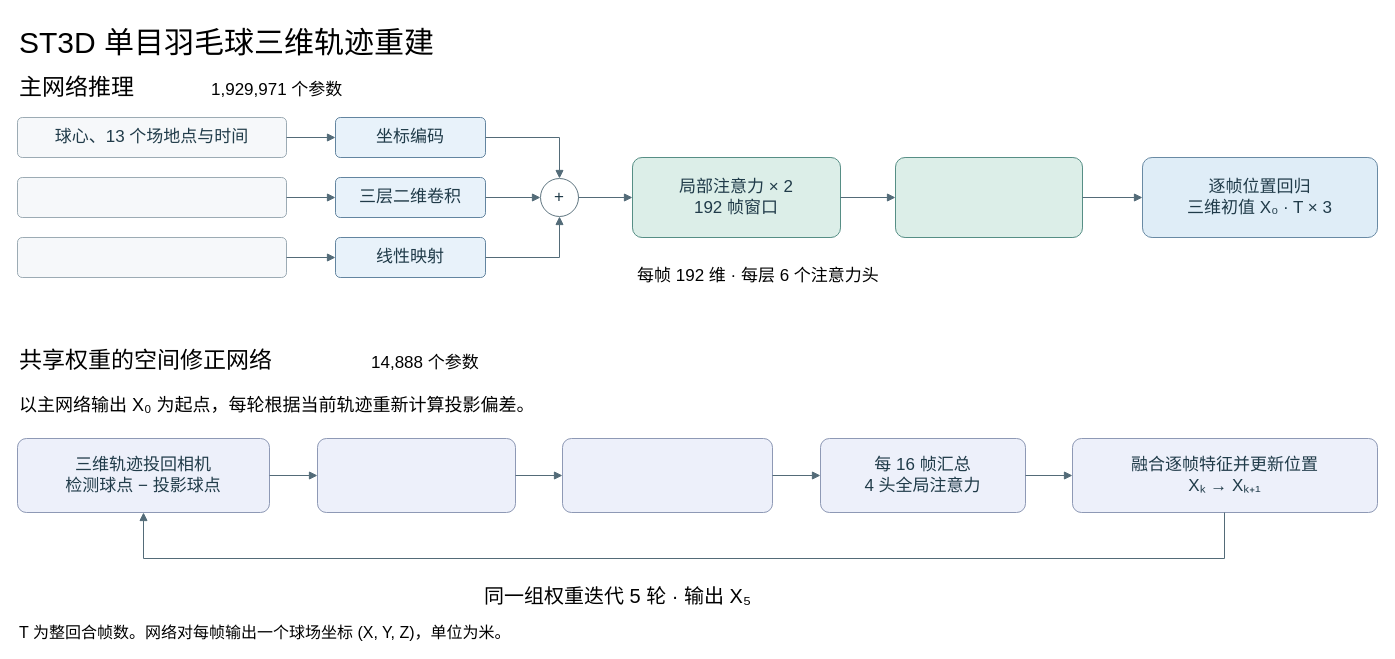
Some shapes in this 1395 by 659 pixel diagram are drawn without their labels. The shapes that lost their labels are listed below. From the top down, each one's box as (x1, y1, x2, y2) in pixels, then its label:
(16, 176, 286, 218): 灰度小图 + 热图 · 2 × 24 × 24
(894, 156, 1082, 238): 全局注意力 × 2 整回合上下文
(16, 236, 286, 278): 裁剪中心与尺度 · 3 维
(316, 438, 516, 512): 31 维观测与运动特征 线性映射 → 32 维
(562, 438, 772, 512): 一维时序卷积 · 核 5 空洞卷积 · 核 3，膨胀 4
